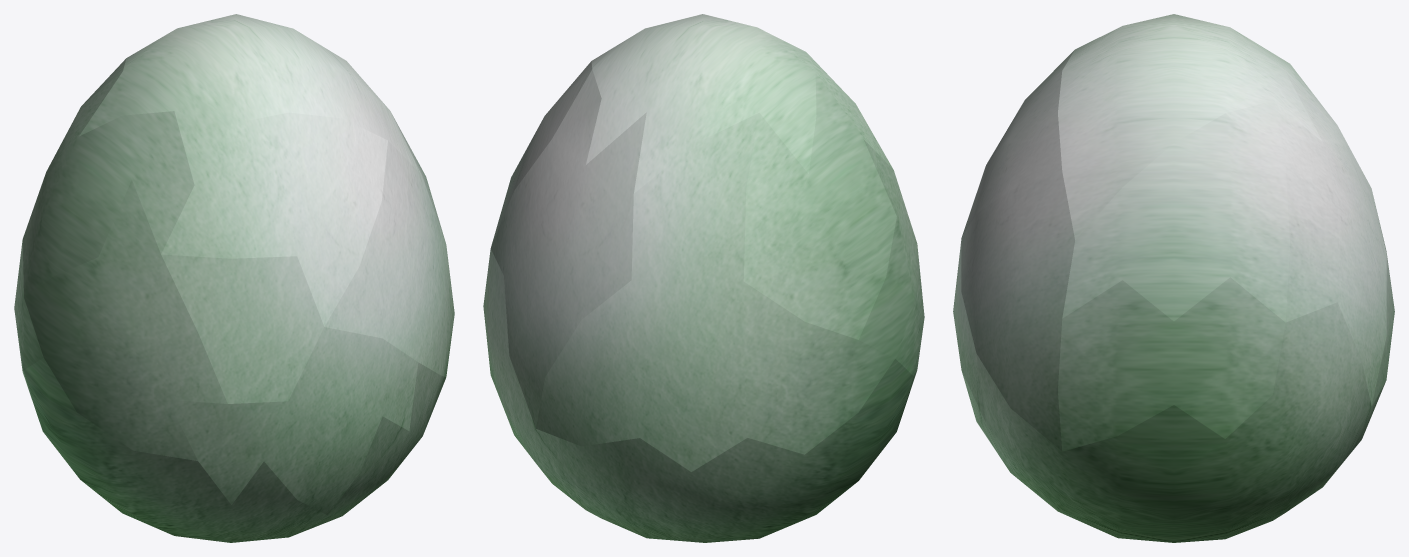
Rendered from egg.FBX.
3 renders of one model, left to right at view 1: azimuth 30°, elevation 25°; view 2: azimuth 150°, elevation 25°; view 3: azimuth 270°, elevation 25°, orthographic.
Visible parts, largest first — view 1: egg6, egg4, egg2, egg5, egg0, egg7, egg1, egg3, egg10; view 2: egg10, egg0, egg11, egg7, egg2, egg6, egg8; view 3: egg0, egg8, egg2, egg9, egg3, egg11, egg4, egg5, egg10.
Part boxes in pixels (x1=…): egg6: x1=24, y1=180, x2=227, y2=460; egg4: x1=161, y1=112, x2=387, y2=326; egg2: x1=79, y1=14, x2=421, y2=184; egg5: x1=168, y1=327, x2=418, y2=515; egg0: x1=22, y1=358, x2=445, y2=542; egg7: x1=22, y1=72, x2=194, y2=297; egg1: x1=161, y1=254, x2=324, y2=403; egg3: x1=324, y1=141, x2=454, y2=376; egg10: x1=14, y1=58, x2=126, y2=371; egg10: x1=536, y1=113, x2=895, y2=471; egg0: x1=483, y1=249, x2=916, y2=542; egg11: x1=490, y1=70, x2=646, y2=428; egg7: x1=743, y1=74, x2=896, y2=339; egg2: x1=586, y1=14, x2=855, y2=193; egg6: x1=859, y1=139, x2=924, y2=375; egg8: x1=491, y1=61, x2=592, y2=246; egg0: x1=962, y1=302, x2=1385, y2=542; egg8: x1=1062, y1=113, x2=1289, y2=322; egg2: x1=1058, y1=14, x2=1336, y2=240; egg9: x1=1058, y1=277, x2=1285, y2=451; egg3: x1=961, y1=171, x2=1074, y2=451; egg11: x1=1225, y1=72, x2=1386, y2=405; egg4: x1=962, y1=50, x2=1074, y2=236; egg5: x1=953, y1=241, x2=985, y2=421; egg10: x1=1372, y1=199, x2=1394, y2=405.
Bounding box in the file's own units: 103 × 103 × 128.
Materials: 1 (1 with a texture image).
